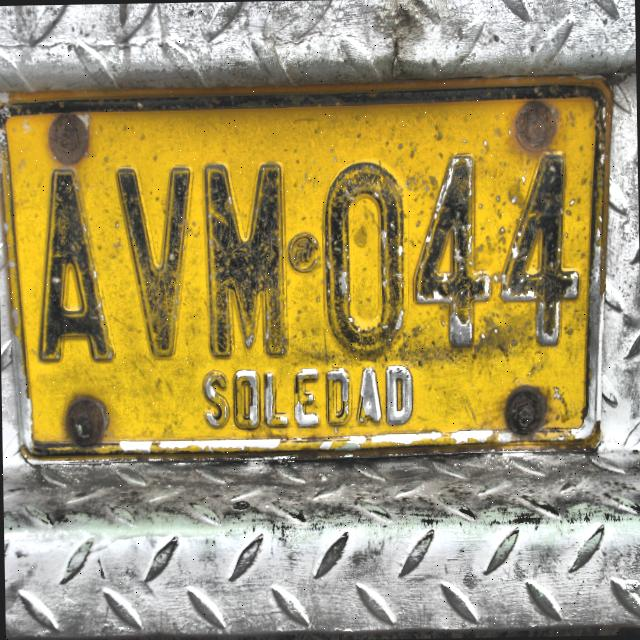plate: (0, 73, 614, 464)
